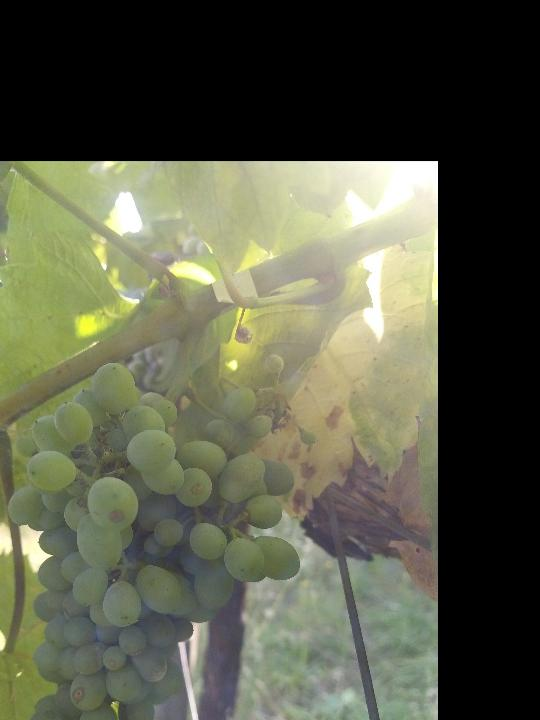grape: (2, 346, 308, 720)
